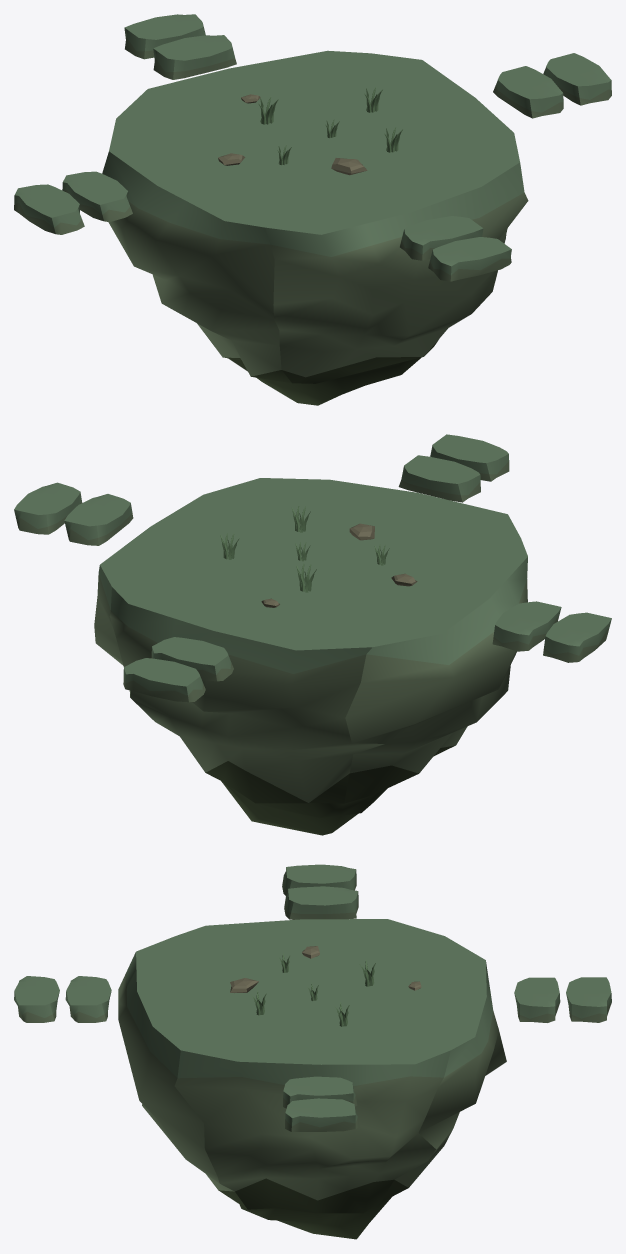
The model's file is Land new.fbx.
3 views of the same model, one above another, from view 1: azimuth 30°, elevation 25°; view 2: azimuth 150°, elevation 25°; view 3: azimuth 270°, elevation 25° (orthographic). The views are drawn at different scales.
Visible parts, largest first — view 1: Body, pasted__pCube1, pasted__pasted__pasted__pCube1, pasted__pasted__pasted__pCube3, pasted__pCube2; view 2: Body, pasted__pasted__pasted__pCube3, pasted__pCube1, pasted__pCube2, pasted__pasted__pasted__pCube1; view 3: Body, pasted__pasted__pasted__pCube1, pasted__pasted__pasted__pCube3, pasted__pCube1, pasted__pCube2.
Part boxes in pixels (x1,y1,x2,y2): Body: (102, 50, 528, 405); pasted__pCube1: (124, 14, 236, 79); pasted__pasted__pasted__pCube1: (14, 171, 132, 234); pasted__pasted__pasted__pCube3: (493, 53, 611, 118); pasted__pCube2: (400, 216, 511, 281); Body: (94, 478, 527, 835); pasted__pasted__pasted__pCube3: (14, 482, 133, 545); pasted__pCube1: (123, 637, 233, 702); pasted__pCube2: (398, 434, 509, 502); pasted__pasted__pasted__pCube1: (492, 601, 611, 662); Body: (118, 919, 506, 1239); pasted__pasted__pasted__pCube1: (282, 864, 358, 919); pasted__pasted__pasted__pCube3: (283, 1076, 359, 1131); pasted__pCube1: (514, 977, 611, 1022); pasted__pCube2: (14, 976, 111, 1022).
Bounding box in the file's own units: 8.93 × 4.28 × 8.89.
